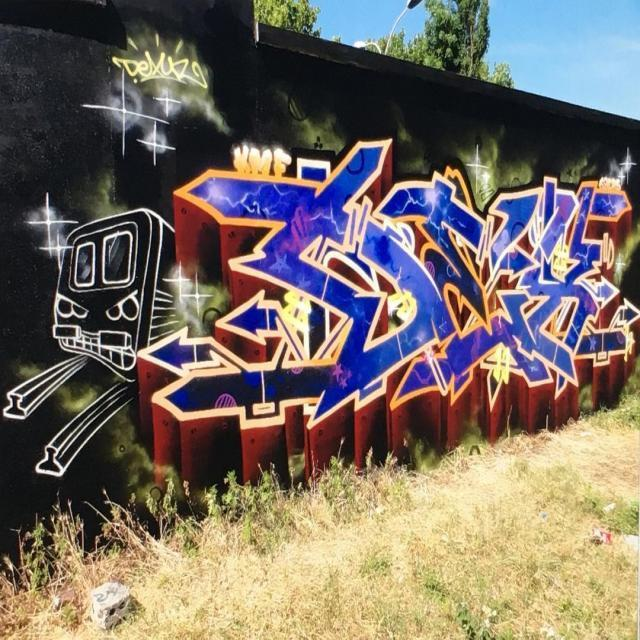-: (135, 88, 640, 502), (9, 164, 168, 494), (107, 18, 218, 120)
